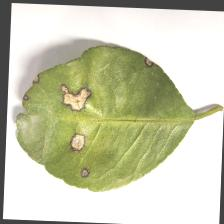canker: (23, 49, 96, 165)
